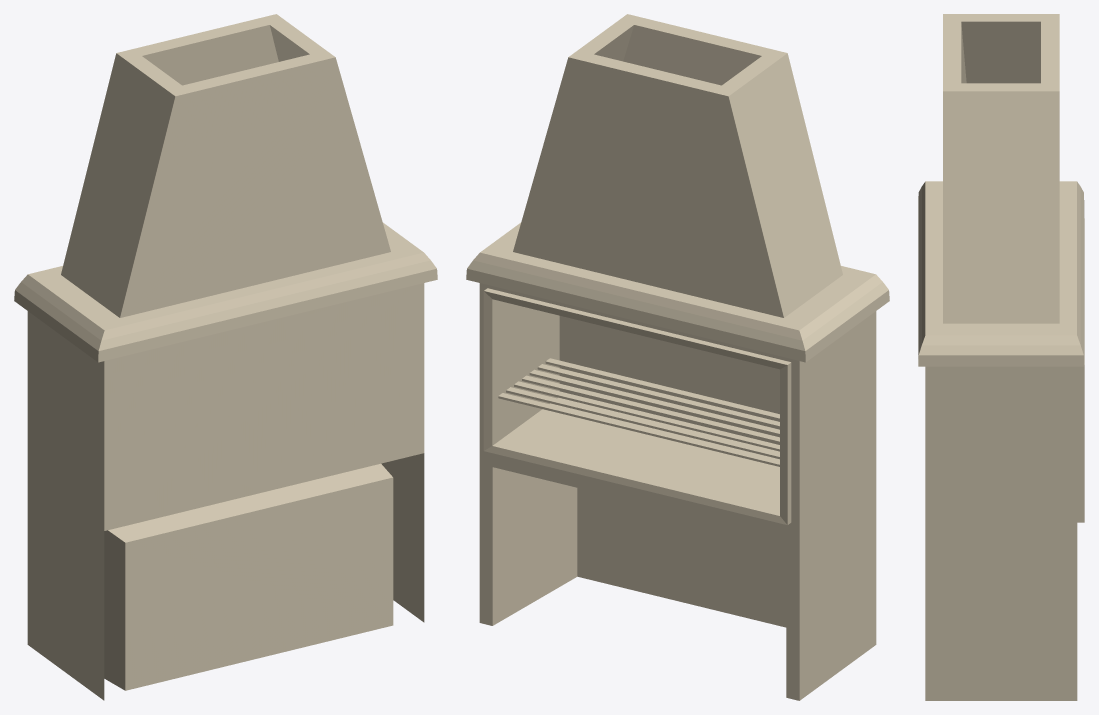
File: barbacoa.fbx
3 renders of one model, left to right at view 1: azimuth 30°, elevation 25°; view 2: azimuth 150°, elevation 25°; view 3: azimuth 270°, elevation 25°, orthographic.
Parts seen in each view (by area): view 1: barbacoa.006; view 2: barbacoa.006; view 3: barbacoa.006.
Part boxes in pixels (x1=…): barbacoa.006: x1=14, y1=14, x2=437, y2=700; barbacoa.006: x1=466, y1=14, x2=889, y2=700; barbacoa.006: x1=918, y1=14, x2=1084, y2=700.
Size of the model in its own units: 49.66 by 80.84 by 21.36.
